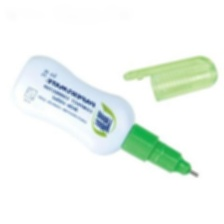correction_fluid: (9, 53, 201, 182)
